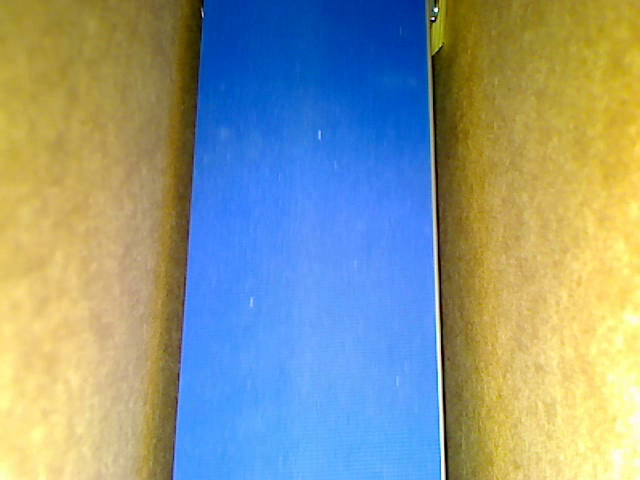penne: (429, 1, 445, 55)
